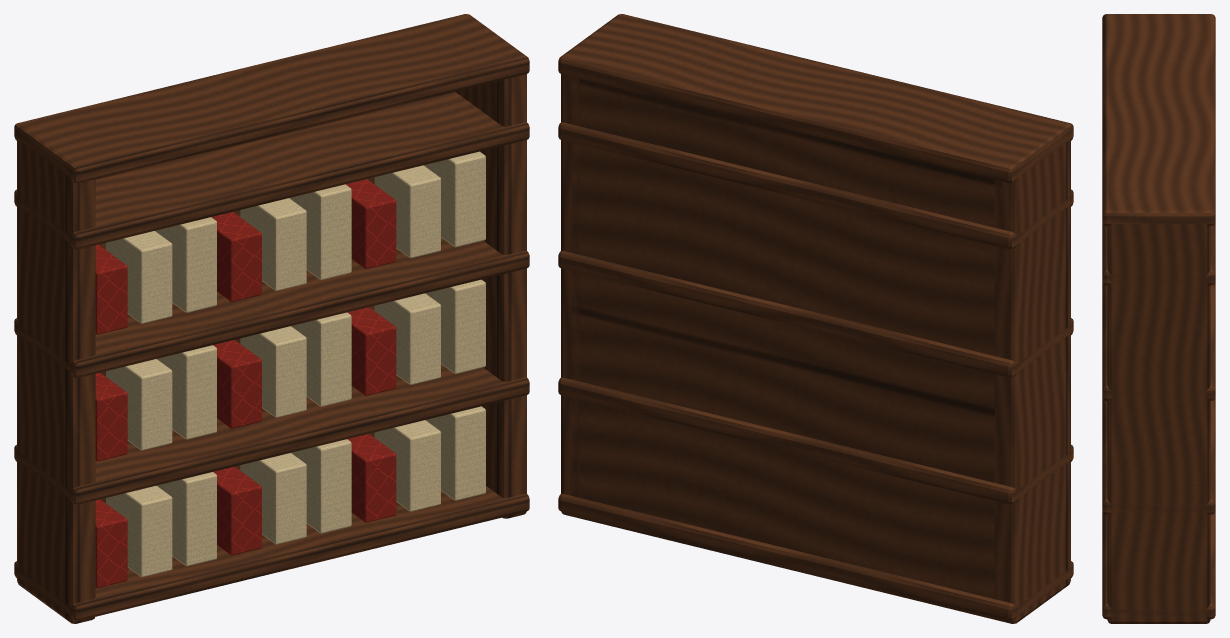
File: bookcase.glb
3 views of the same model, side by side, from view 1: azimuth 30°, elevation 25°; view 2: azimuth 150°, elevation 25°; view 3: azimuth 270°, elevation 25° (orthographic). The views are drawn at different scales.
Visible parts, largest first — view 1: bookcase_Walnut, bookcase_Paper, bookcase_Brocade; view 2: bookcase_Walnut; view 3: bookcase_Walnut.
Boxes of the visible parts, bbox=[...] form: bookcase_Walnut: bbox=[14, 14, 529, 623]; bookcase_Paper: bbox=[106, 151, 485, 577]; bookcase_Brocade: bbox=[95, 179, 396, 588]; bookcase_Walnut: bbox=[558, 14, 1073, 623]; bookcase_Walnut: bbox=[1102, 14, 1215, 623].
Size of the model in its own units: 2.75 by 2.65 by 0.66.
Materials: 3 (3 with a texture image).
